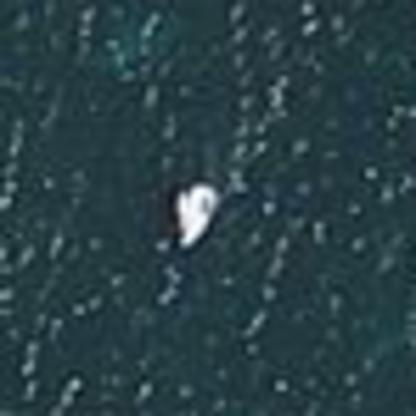ship: (168, 175, 226, 255)
